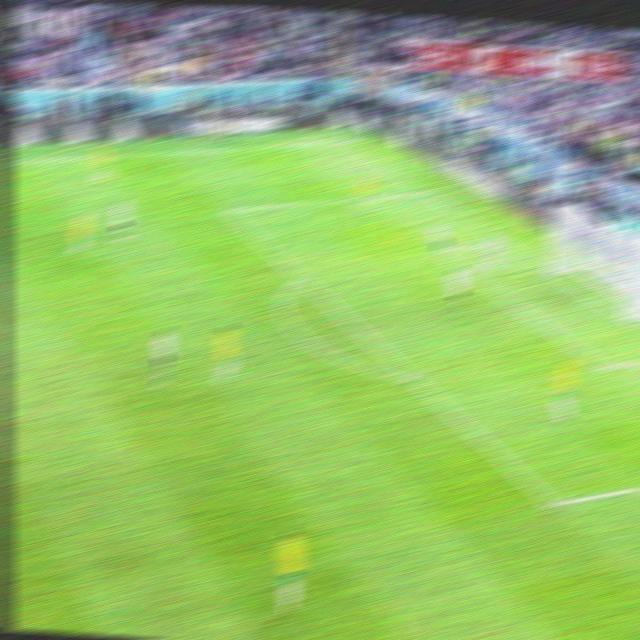bigarea_bottom_inner: (541, 490, 566, 515)
bigarea_top_inner: (216, 200, 239, 218)
bigarea_top_outter: (415, 183, 435, 198)
bottom_arc_area_intersection: (399, 365, 424, 386)
corner: (333, 133, 356, 146)
smallarea_bottom_inner: (592, 354, 618, 379)
smallarea_top_inner: (431, 242, 451, 257)
smallarea_top_outter: (493, 233, 516, 251)
top_arc_area_intersection: (290, 266, 313, 283)
